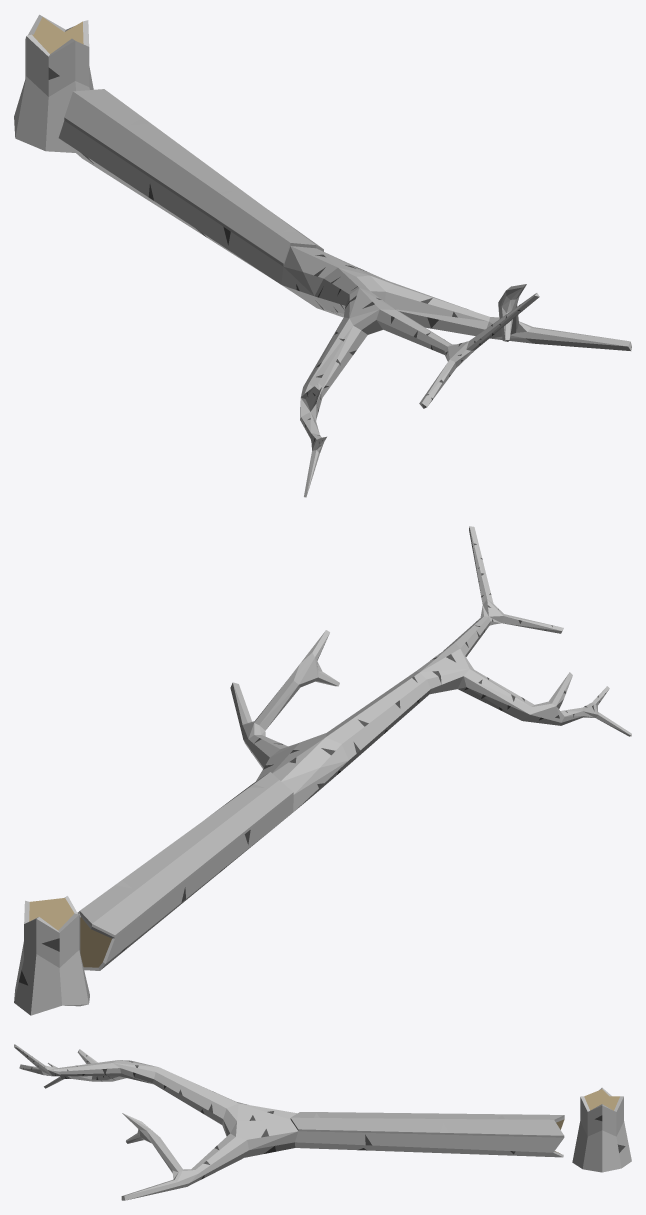
Rendered from Birch_1 Broken Winter.fbx.
The picture shows the model from 3 angles, top to bottom: view 1: azimuth 30°, elevation 25°; view 2: azimuth 150°, elevation 25°; view 3: azimuth 270°, elevation 25°; orthographic projection. The views are drawn at different scales.
Parts seen in each view (by area): view 1: BrichBrokenWinter_mesh; view 2: BrichBrokenWinter_mesh; view 3: BrichBrokenWinter_mesh.
Part boxes in pixels (x1,y1,x2,y2): BrichBrokenWinter_mesh: (14, 14, 631, 497); BrichBrokenWinter_mesh: (14, 526, 631, 1015); BrichBrokenWinter_mesh: (14, 1044, 631, 1200).
Bounding box in the file's own units: 308 × 144 × 685.
